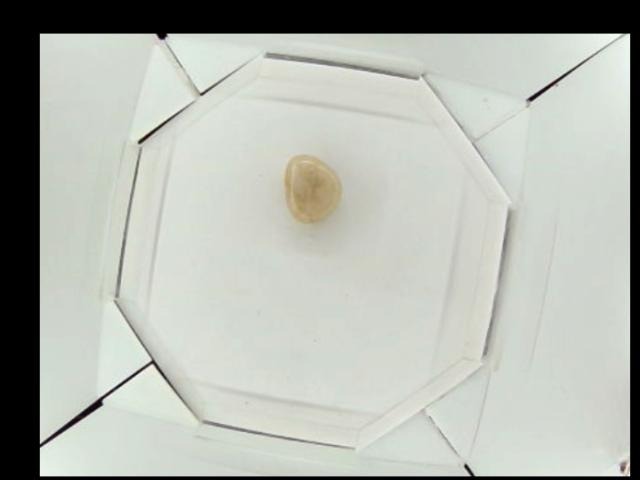Pebble: (286, 152, 343, 223)
